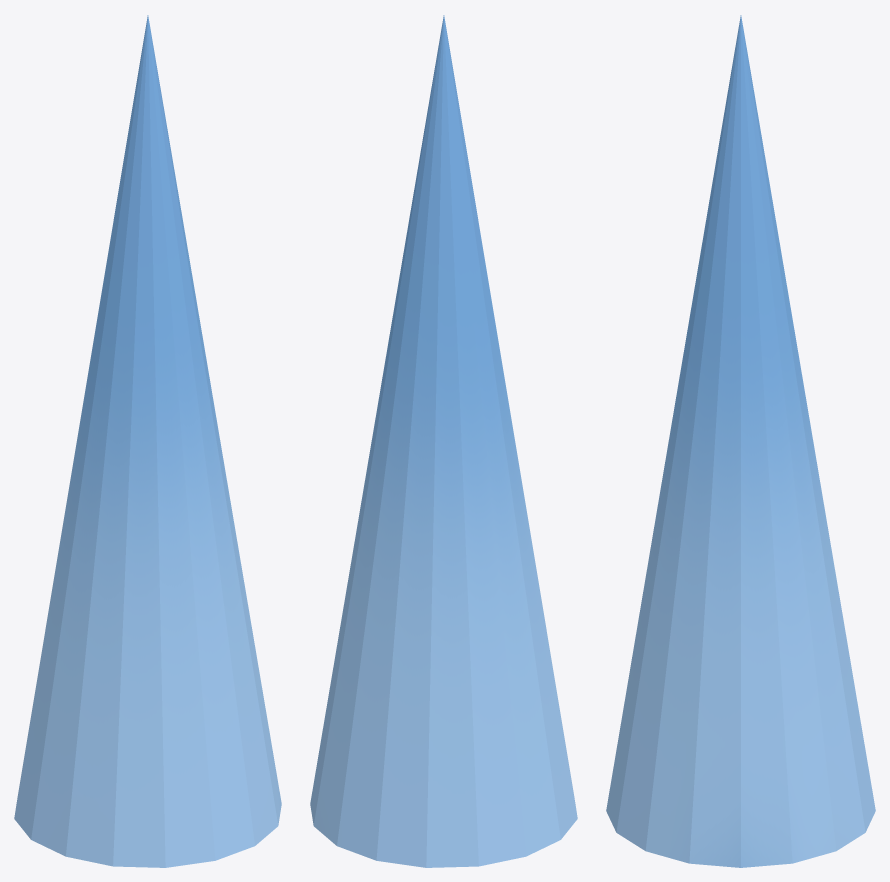
Rendered from Toondra_Icicle.fbx.
3 renders of one model, left to right at view 1: azimuth 30°, elevation 25°; view 2: azimuth 150°, elevation 25°; view 3: azimuth 270°, elevation 25°, orthographic.
Parts seen in each view (by area): view 1: Cone; view 2: Cone; view 3: Cone.
Part boxes in pixels (x1=…): Cone: x1=14, y1=15, x2=281, y2=867; Cone: x1=310, y1=15, x2=577, y2=867; Cone: x1=606, y1=15, x2=875, y2=867.
Size of the model in its own units: 7.18 by 23.42 by 7.18.
